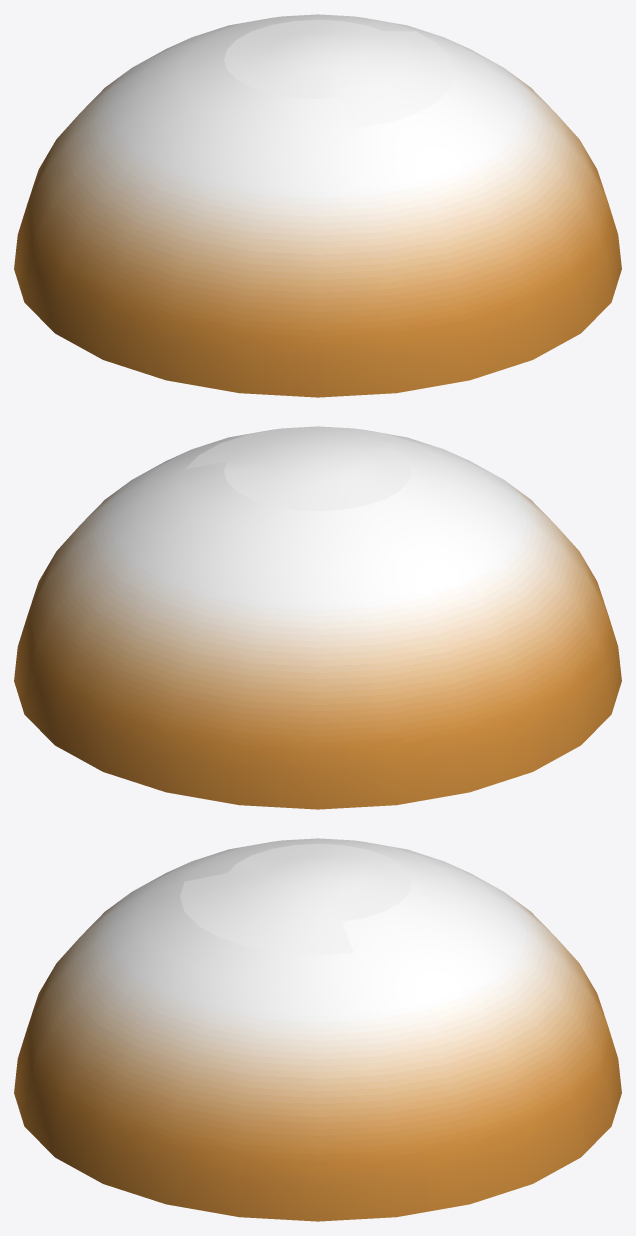
3 renders of one model, top to bottom at view 1: azimuth 30°, elevation 25°; view 2: azimuth 150°, elevation 25°; view 3: azimuth 270°, elevation 25°, orthographic.
Visible parts, largest first — view 1: wall; view 2: wall; view 3: wall.
Boxes of the visible parts, x1,y1,x2,y2 form: wall: (14,14,621,397); wall: (14,426,621,809); wall: (14,838,621,1221).
Bounding box in the file's own units: 6000 × 6000 × 2400.
